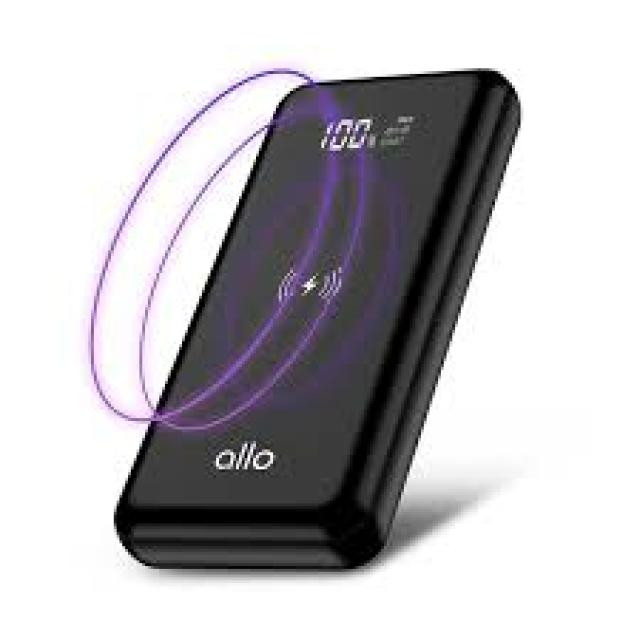power_bank: (115, 72, 526, 575)
